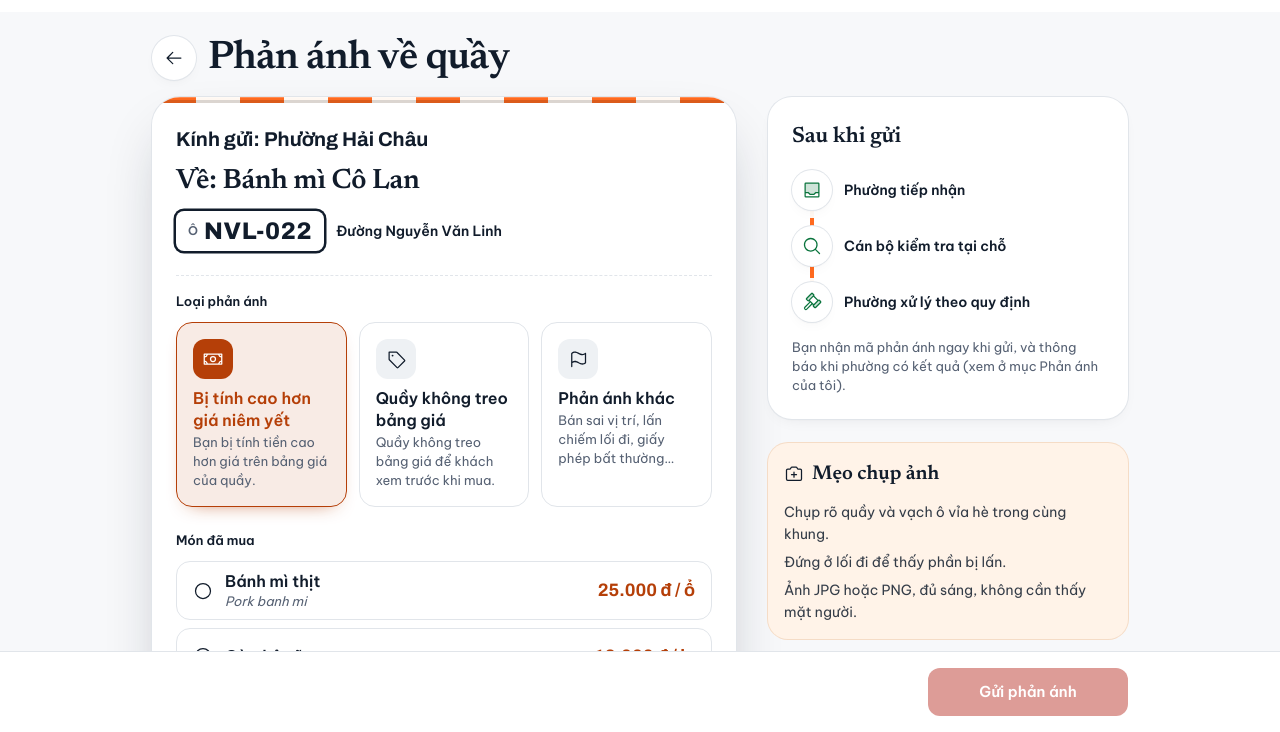
complaint form, "Bị tính cao hơn giá niêm yết" › shows the server refusal (422) and the way to switch to a general report
Step 1. Click the radio button labelled "Bánh mì thịt Pork banh mi 25.000 đ / ổ" → coordinates (273, 581), box top-left (176, 561), bottom-right (712, 620)
(page scrolled)
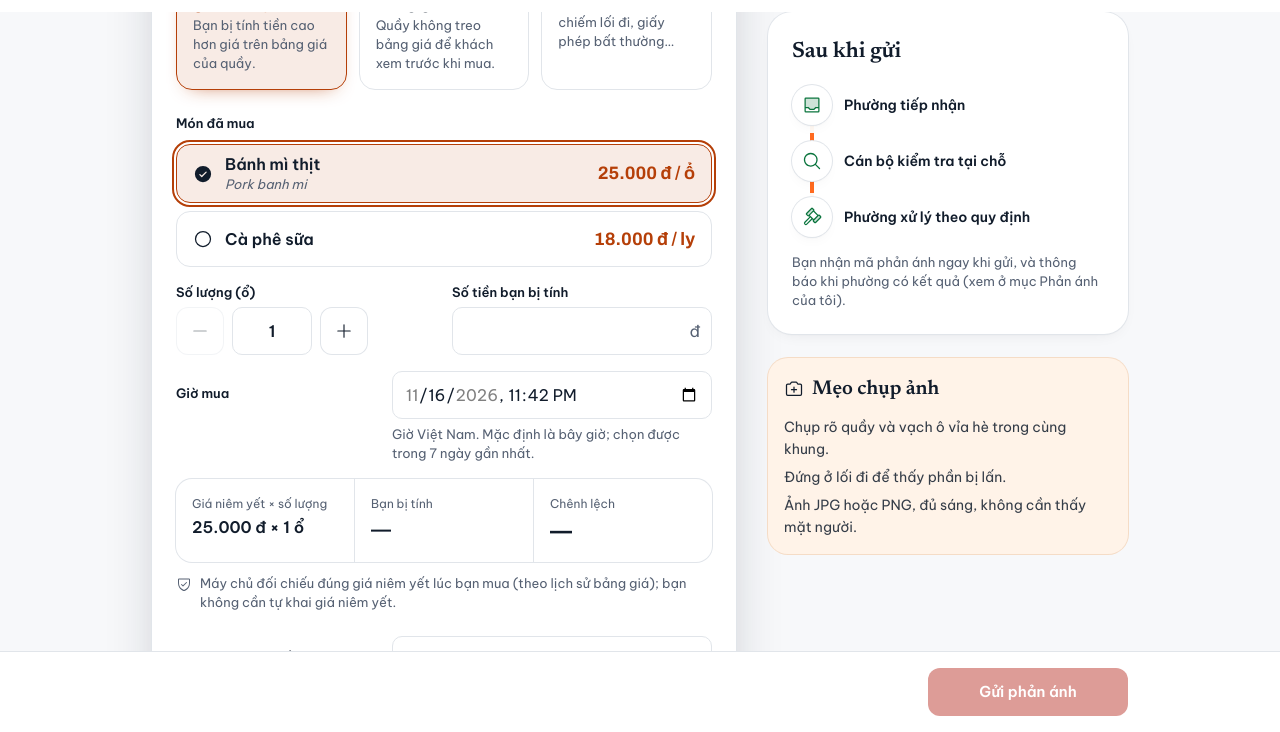
Step 2. Replace the text in the field labelled "Số lượng (ổ)" with "2" → coordinates (272, 331), box top-left (232, 307), bottom-right (312, 355)
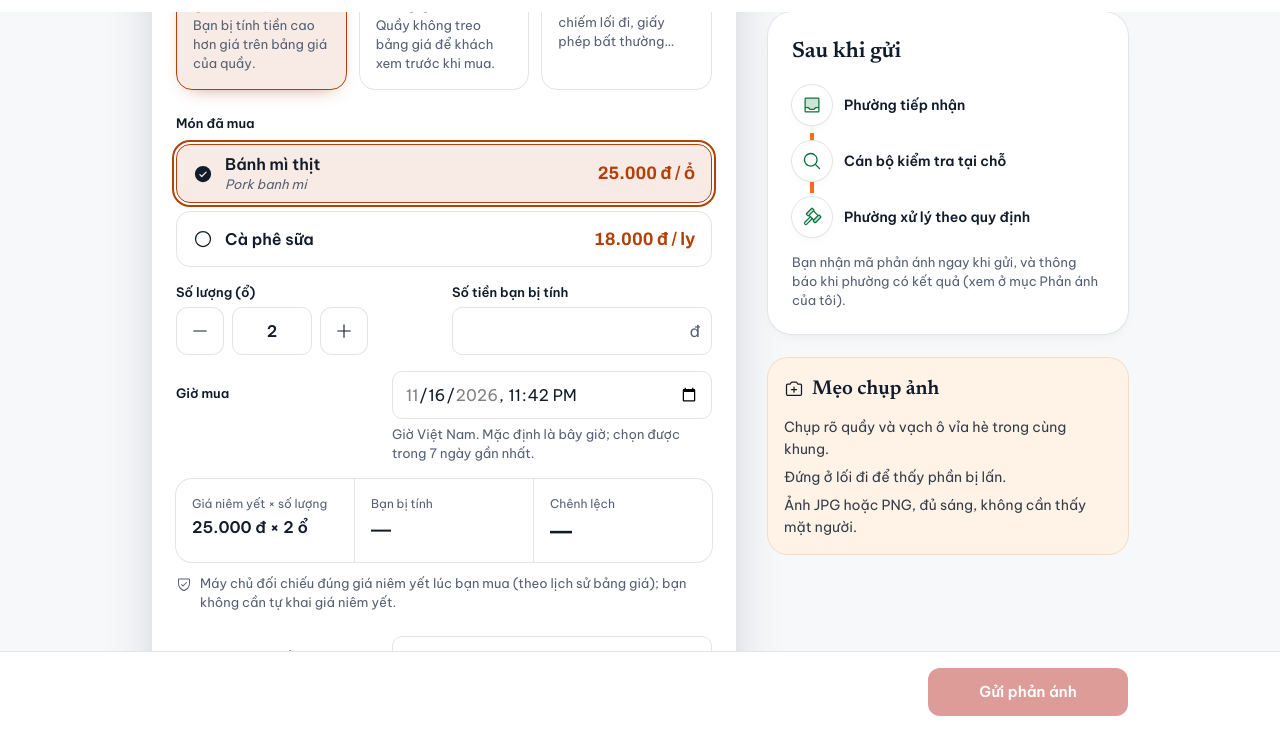
Step 3. Type "90000" into the field labelled "Số tiền bạn bị tính" → coordinates (582, 331), box top-left (452, 307), bottom-right (712, 355)
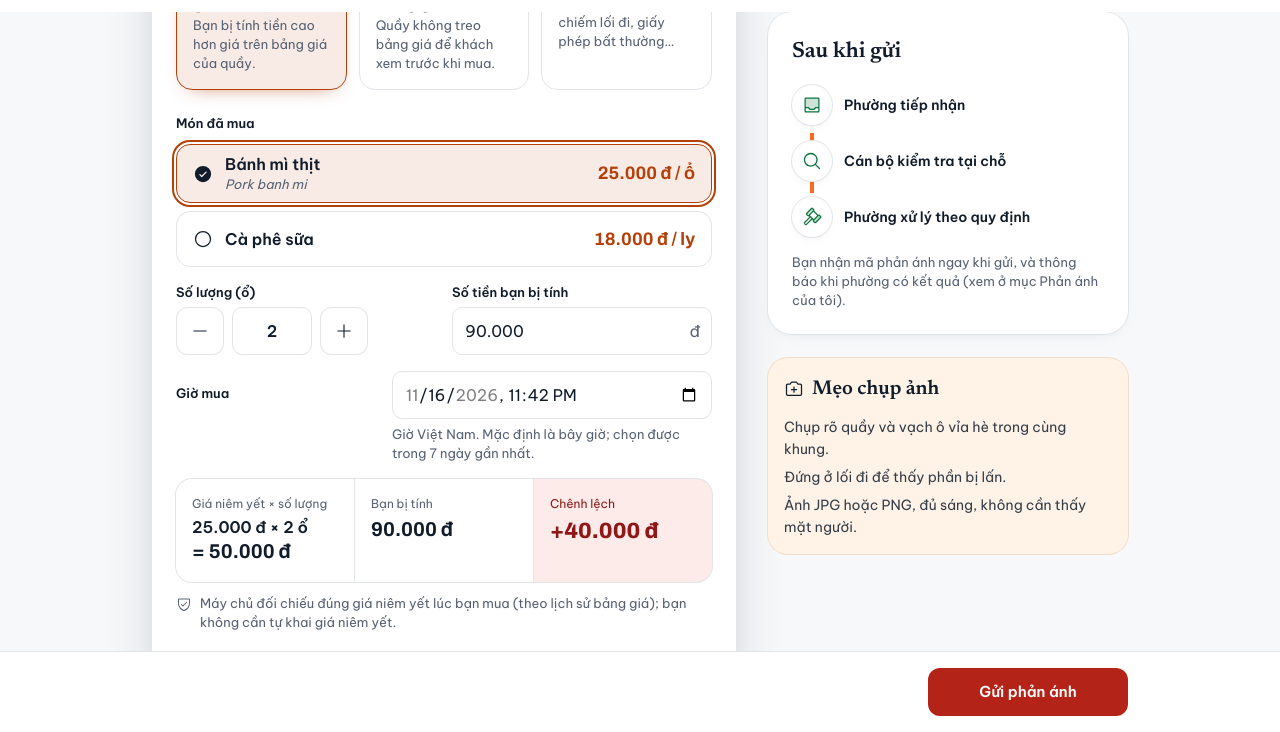
Step 4. Click the button "Gửi phản ánh" → coordinates (1028, 692), box top-left (928, 668), bottom-right (1128, 716)
(page scrolled)
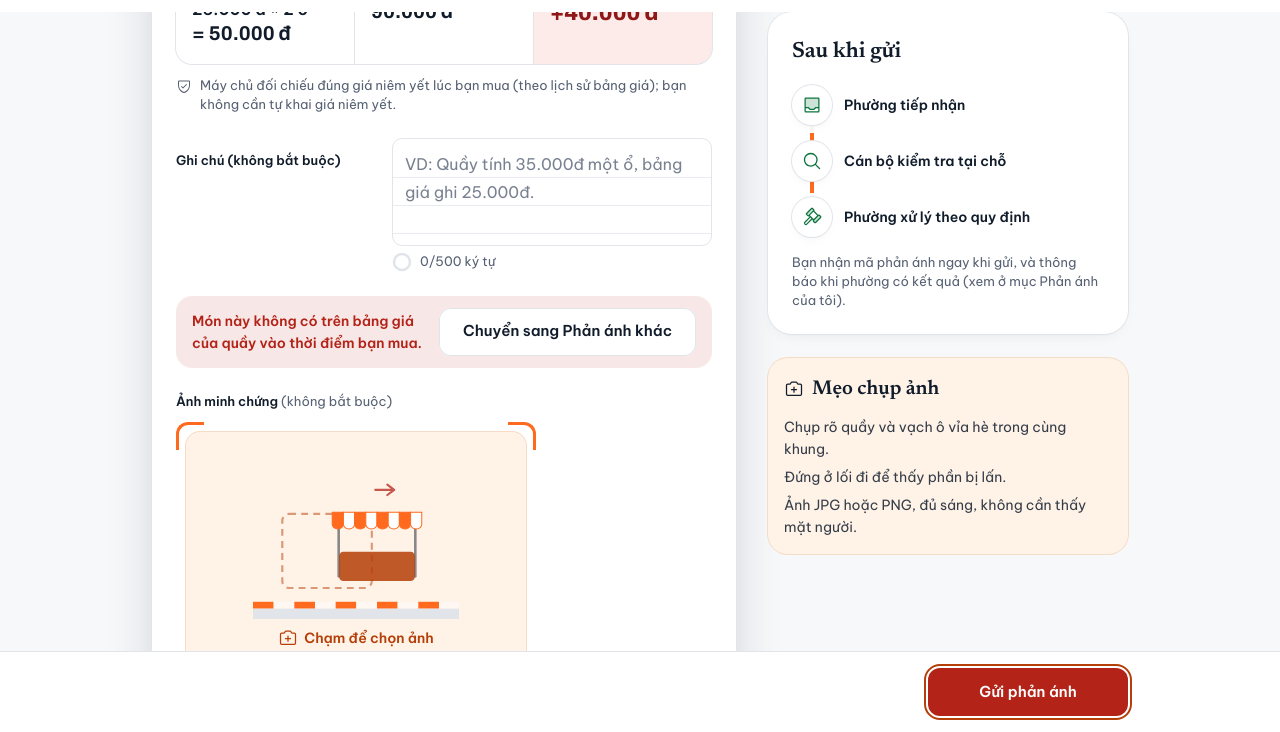
Expected: the text "Món này không có trên bảng giá của quầy vào thời điểm bạn mua." is shown, top-left (192, 310), bottom-right (427, 354)
Expected: the button "Chuyển sang Phản ánh khác" is shown, top-left (439, 308), bottom-right (696, 356)
